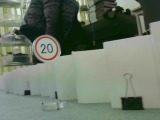speed_20: (32, 34, 62, 64)
